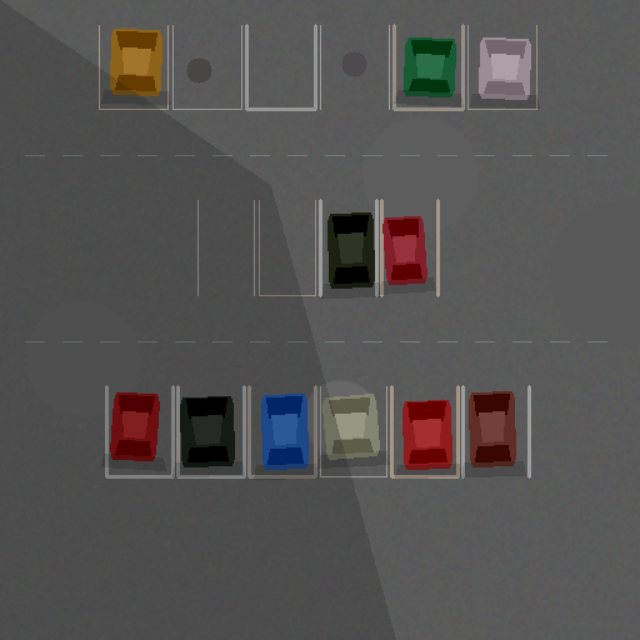space-empty: (172, 25, 241, 109), (246, 25, 315, 109), (320, 25, 389, 109), (197, 200, 254, 295), (259, 200, 315, 295)
space-occupied: (391, 386, 458, 476), (462, 386, 529, 476), (106, 386, 172, 476), (178, 386, 244, 476), (249, 386, 315, 476), (320, 386, 386, 476), (99, 25, 168, 109), (394, 25, 462, 109), (468, 25, 536, 109), (320, 200, 376, 295), (381, 200, 437, 295)
